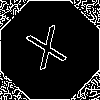X: (25, 25, 73, 80)
